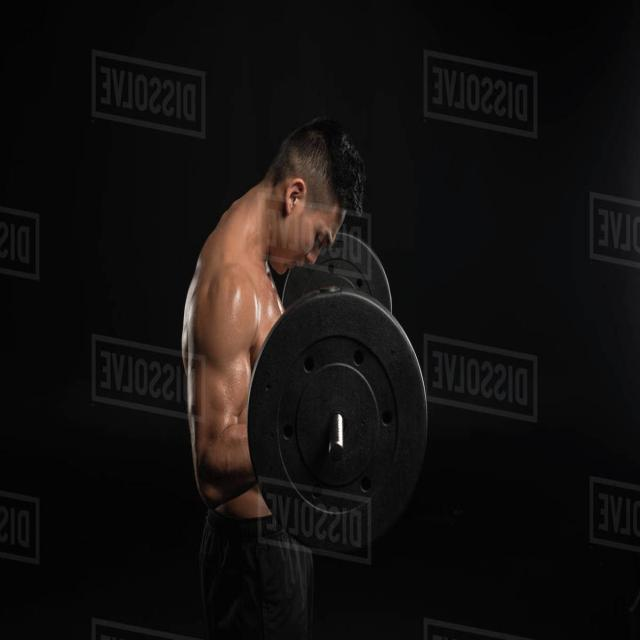barbell_plate_side: (247, 232, 292, 560), (384, 232, 429, 560)
